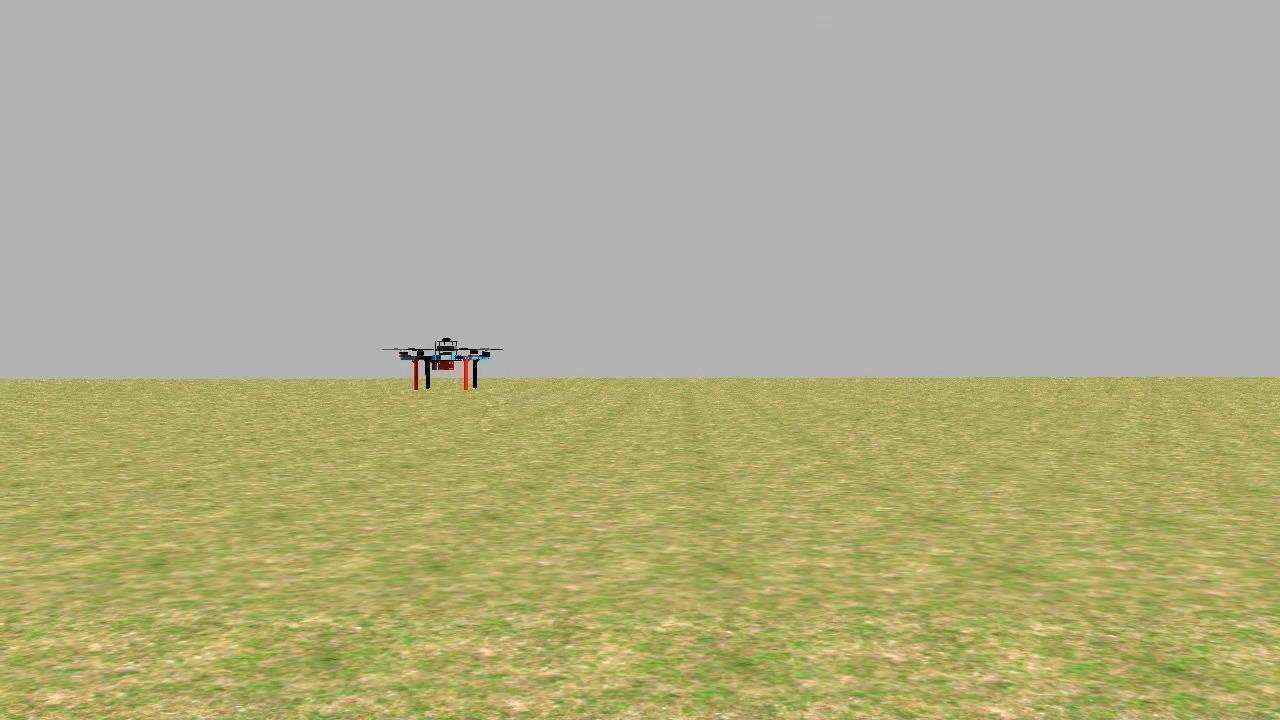UAV: (376, 332, 496, 394)
